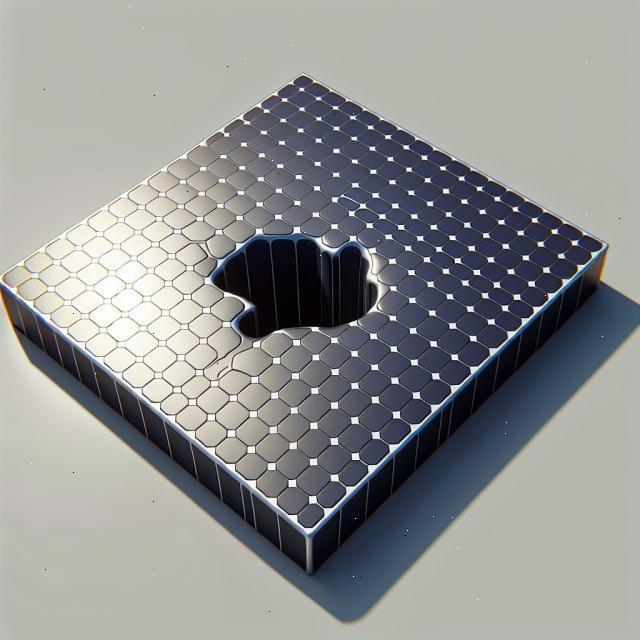Structural Damage: (201, 213, 385, 346)
